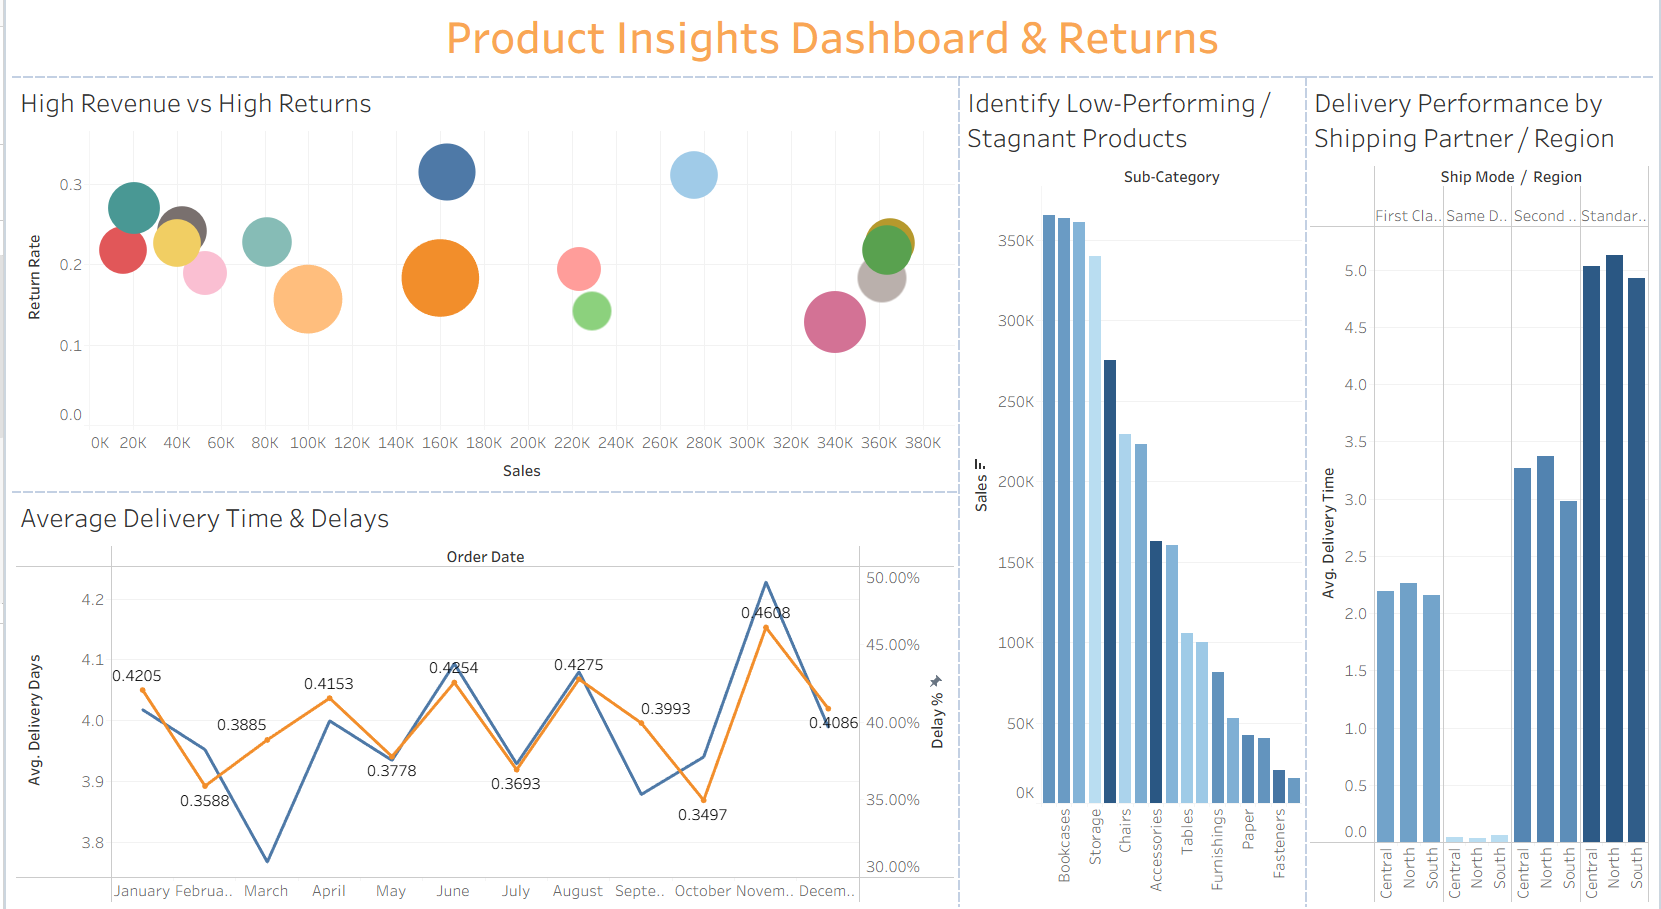

What the dashboard file says about the page in this screenshot:
{"tool":"tableau","page":{"name":"Dashboard 3","canvas":[1000,1000],"units":"permille","ordinal":2},"visuals":[{"type":"text","box":[4.8,8.7,990.3,72.8]},{"type":"legend","title":"High Revenue vs High Returns","param":"[federated.0y9y8i21ayybd6180b4q91holth1].[none:Sub-Category:nk]","box":[4.8,90.1,152.7,420.2]},{"type":"worksheet","title":"High Revenue vs High Returns","mark":"Circle","rows":["Calculation_1290281302541795330"],"cols":["Sales"],"box":[157.5,90.1,418.8,450.6]},{"type":"worksheet","title":"Identify Low-Performing / Stagnant Products","mark":"Automatic","rows":["Sales"],"cols":["Sub-Category"],"box":[576.3,90.1,209.4,901.2]},{"type":"worksheet","title":"Delivery Performance by Shipping Partner / Region","mark":"Automatic","rows":["Calculation_1290281302553296899"],"cols":["Ship Mode","Region"],"box":[785.8,90.1,209.4,901.2]},{"type":"legend","title":"High Revenue vs High Returns","param":"[federated.0y9y8i21ayybd6180b4q91holth1].[sum:Quantity:qk]","box":[4.8,510.3,152.7,26.1]},{"type":"worksheet","title":"Average Delivery Time & Delays","mark":"Line","rows":["Calculation_1798062162106937360","Calculation_1798062162107432977"],"cols":["Order Date"],"box":[157.5,540.7,418.8,450.6]},{"type":"legend","title":"Identify Low-Performing / Stagnant Products","param":"[federated.0y9y8i21ayybd6180b4q91holth1].[usr:Calculation_1290281302541795330:qk","box":[4.8,542.9,152.7,79.3]},{"type":"legend","title":"Average Delivery Time & Delays","param":"[federated.0y9y8i21ayybd6180b4q91holth1].[none:Calculation_1290281302554038276:n","box":[4.8,622.2,152.7,26.1]},{"type":"legend","title":"Delivery Performance by Shipping Partner / Region","param":"[federated.0y9y8i21ayybd6180b4q91holth1].[avg:Calculation_1290281302553296899:qk","box":[4.8,648.2,152.7,79.3]}]}

Visuals, with their boxes on the dashboard's canvas, which has no fixed pixel size, in thousandths of its width and height (x1, y1, x2, y2). These are canvas units, not pixel positions in the 1661x909 screenshot, which may show the page scaled, cropped or inside an application window:
text: 5:9:995:82
"High Revenue vs High Returns" legend: 5:90:158:510
"High Revenue vs High Returns" worksheet (Circle marks): 158:90:576:541
"Identify Low-Performing / Stagnant Products" worksheet: 576:90:786:991
"Delivery Performance by Shipping Partner / Region" worksheet: 786:90:995:991
"High Revenue vs High Returns" legend: 5:510:158:536
"Average Delivery Time & Delays" worksheet (Line marks): 158:541:576:991
"Identify Low-Performing / Stagnant Products" legend: 5:543:158:622
"Average Delivery Time & Delays" legend: 5:622:158:648
"Delivery Performance by Shipping Partner / Region" legend: 5:648:158:728
